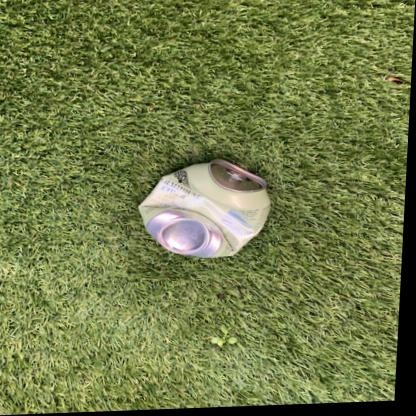trash: (139, 160, 269, 257)
